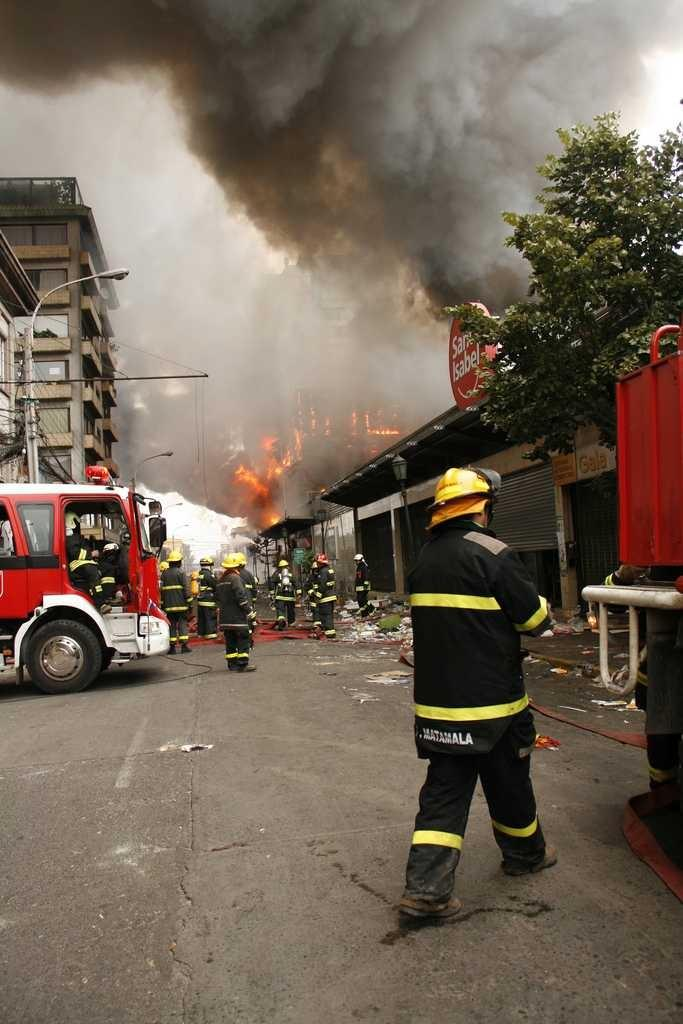fire: (237, 447, 344, 525)
smoke: (211, 7, 608, 282)
